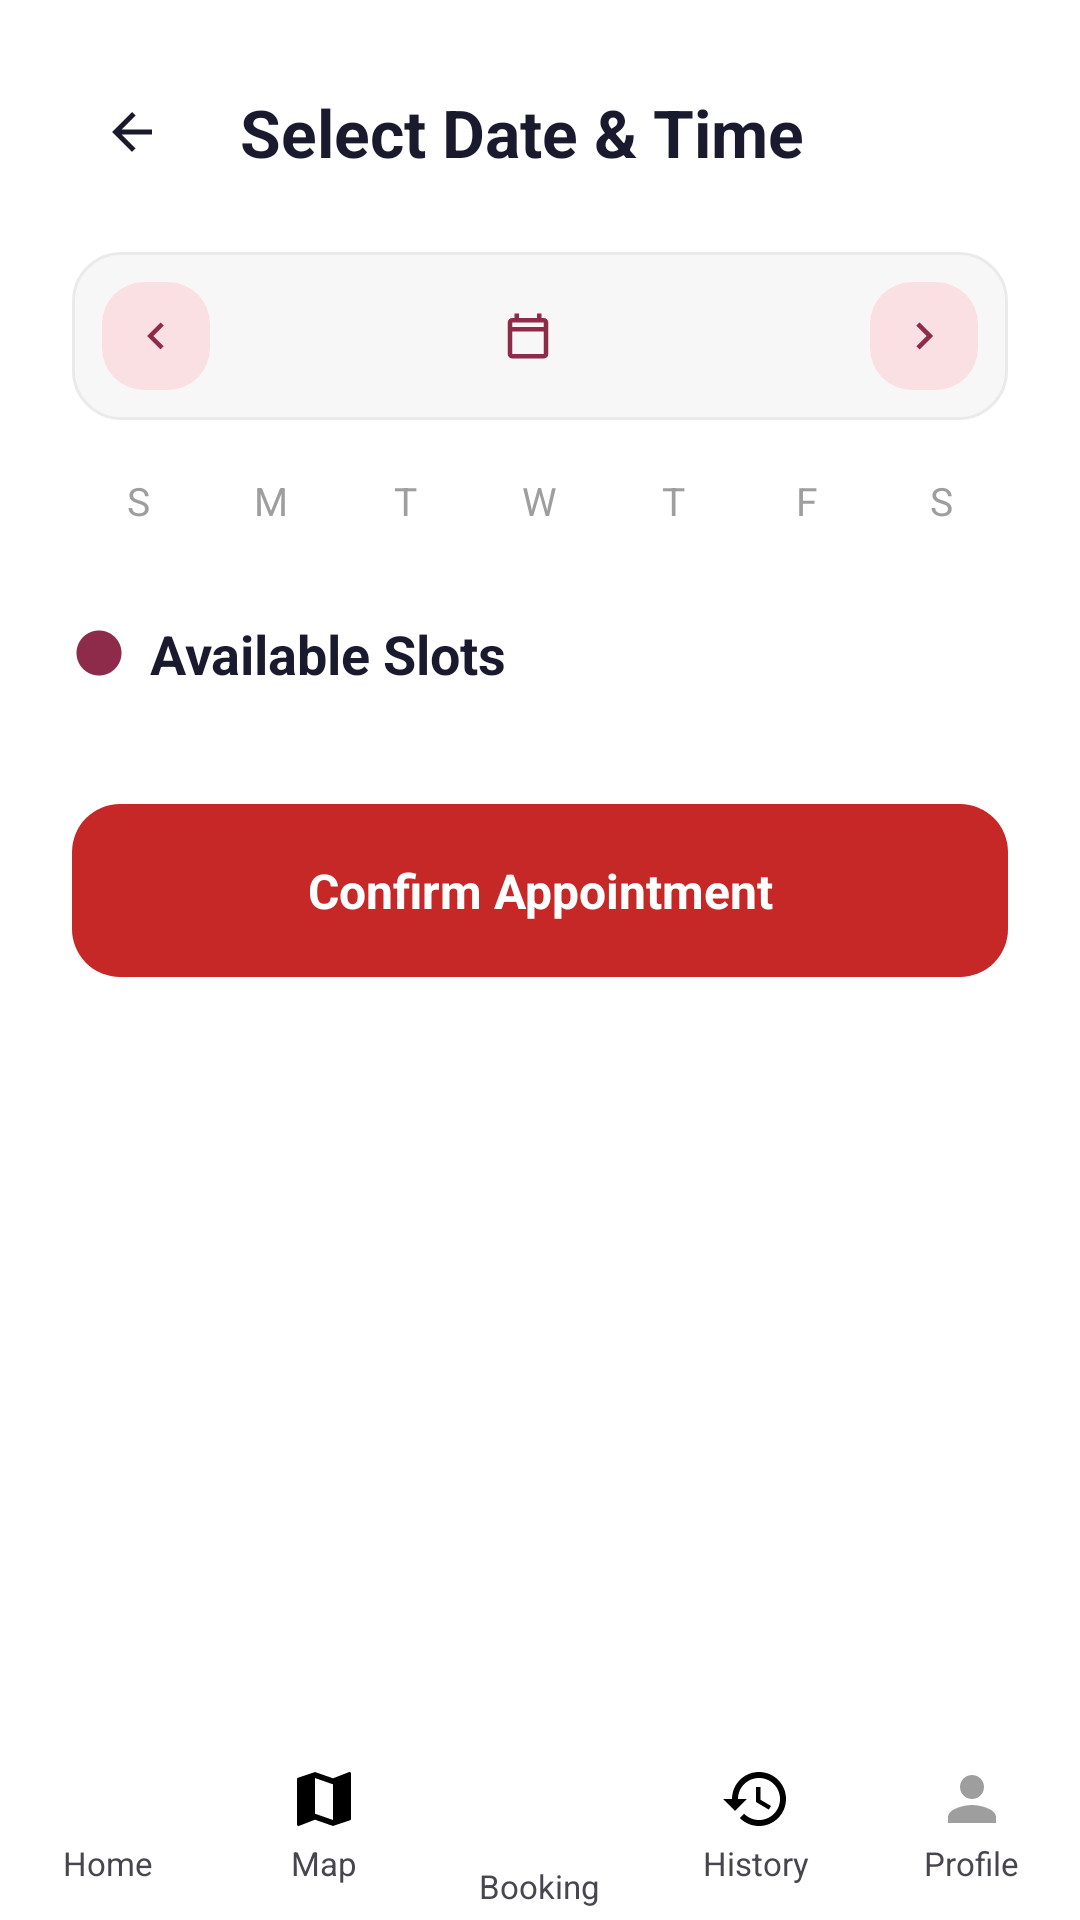

Named icons in this screenshot (1080×1920) and their centers, [x,y]:
back arrow: [132,132]
calendar: [528,336]
chevron left: [155,335]
chevron right: [924,336]
